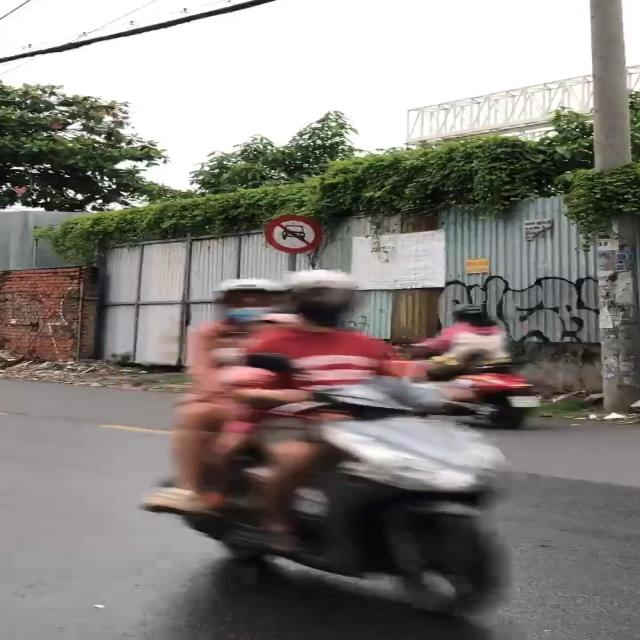Bien bao cam xe oto: (264, 214, 327, 252)
